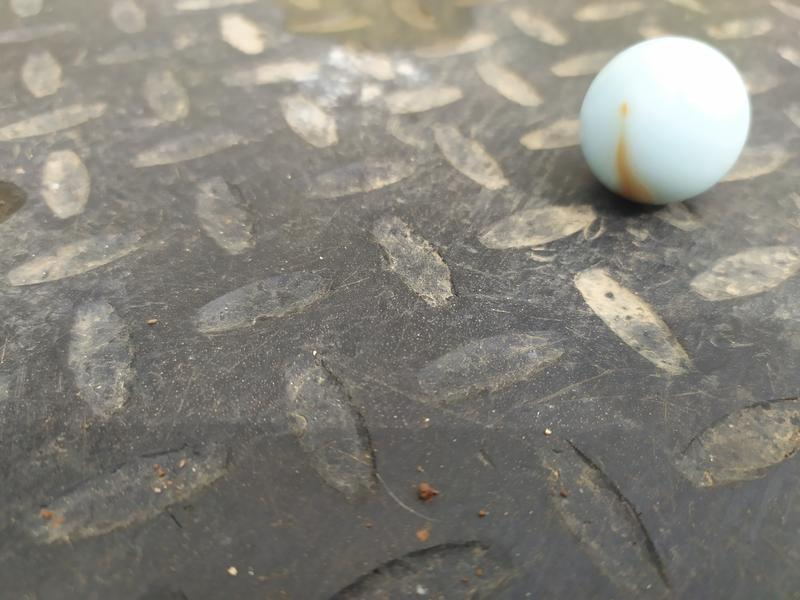Warning: (575, 32, 755, 209)
